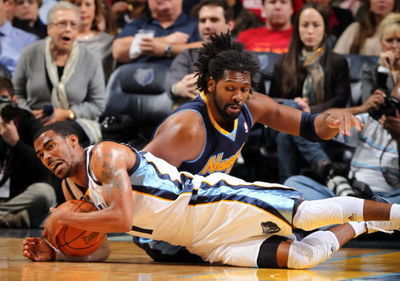10+: (1, 1, 400, 265)
down: (31, 115, 172, 224), (183, 31, 263, 132)
